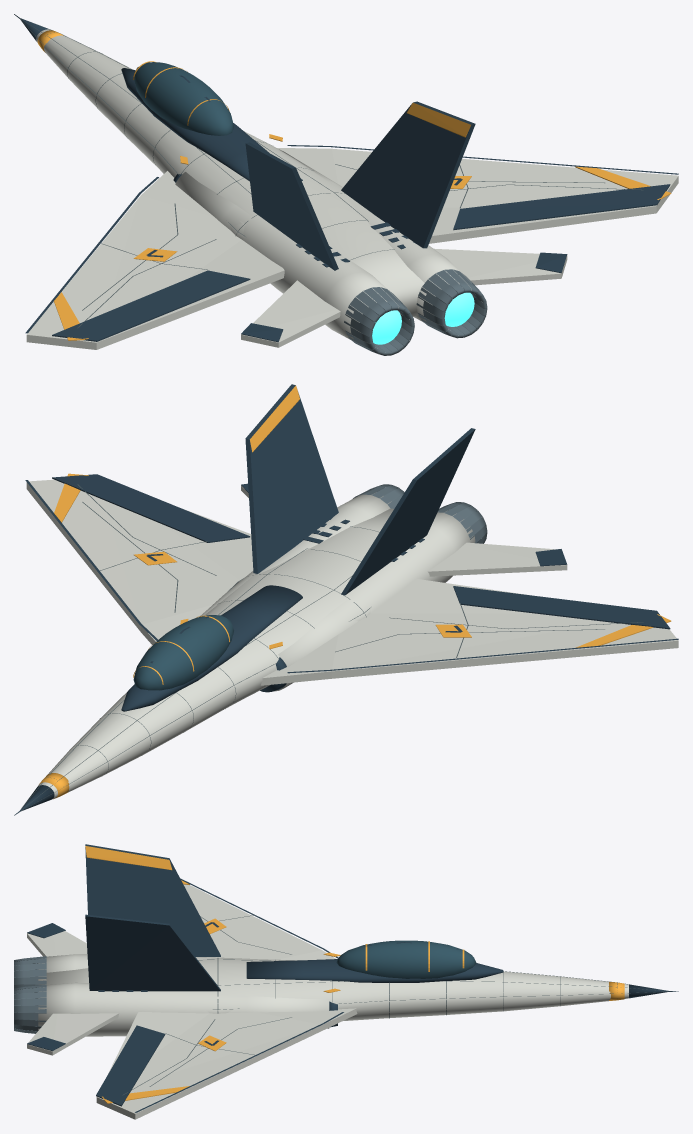
File: falcon.glb
The picture shows the model from 3 angles, top to bottom: view 1: azimuth 30°, elevation 25°; view 2: azimuth 150°, elevation 25°; view 3: azimuth 270°, elevation 25°; orthographic projection. The views are drawn at different scales.
Visible parts, largest first — view 1: falcon; view 2: falcon; view 3: falcon.
Part boxes in pixels (<box>): falcon: <box>14,14,678,355</box>; falcon: <box>14,384,678,815</box>; falcon: <box>14,844,678,1119</box>.
Size of the model in its own units: 21.25 by 5.4 by 23.3.
